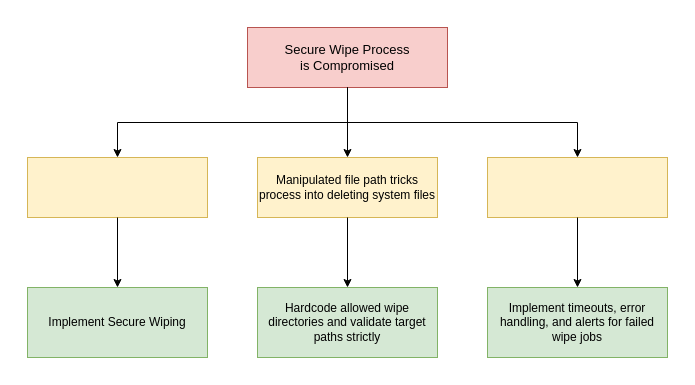
Image size: 695x385. Some labels were removed from this diagram. Here are the shapes that lost their labels. From the top down, the centre of each, then its label:
At [117,187]: "Files deleted using standard OS deletion allowing data recovery".
At [577,187]: "Attacker holds OS-level lock causing wipe job to hang".
